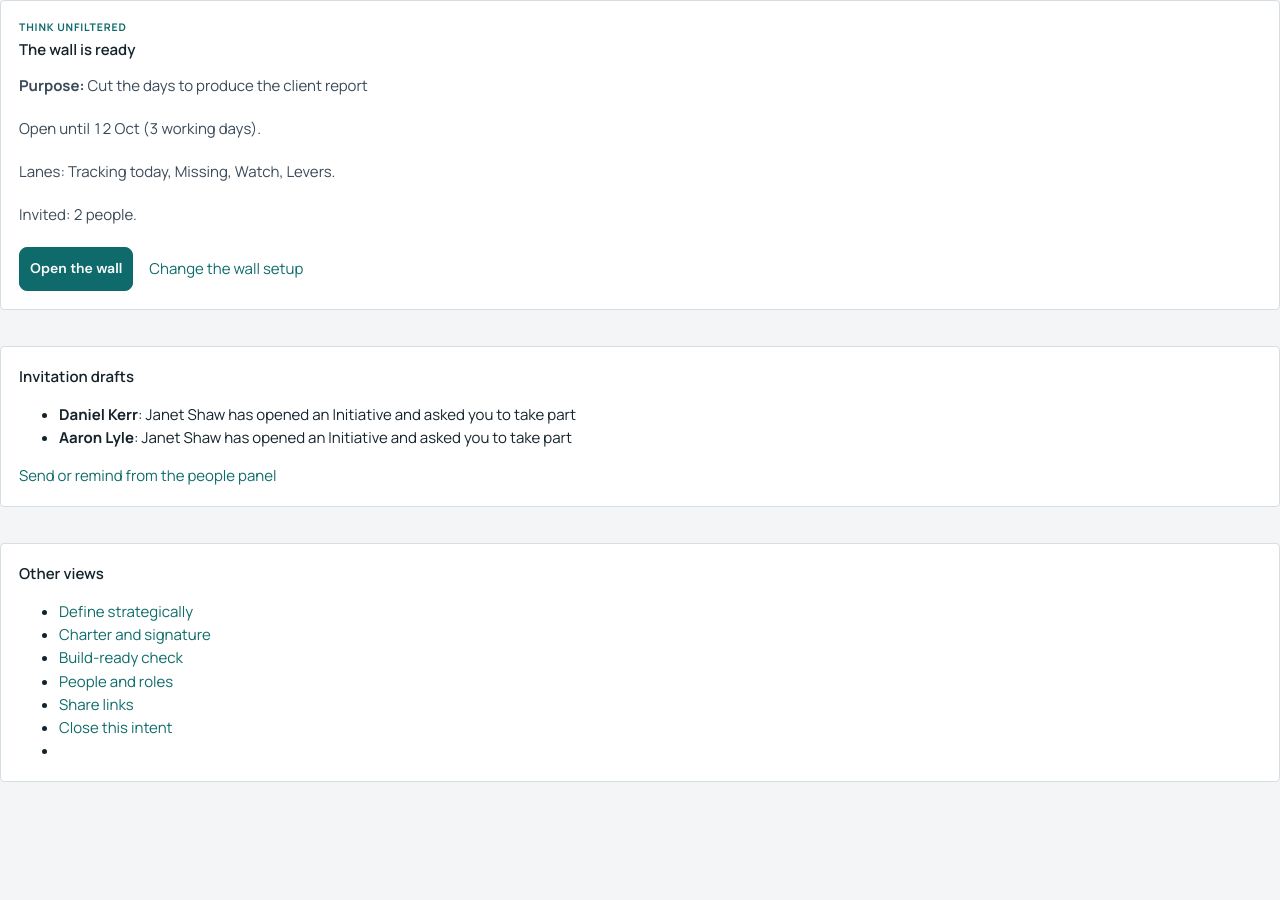
Scenario: the Initiative stage view › a clashing topic says so in plain words
What coordinates should you click on to do the following:
click the button "Open the wall"
I would click on:
 (76, 268)
Its box is x1=19 y1=246 x2=133 y2=290.
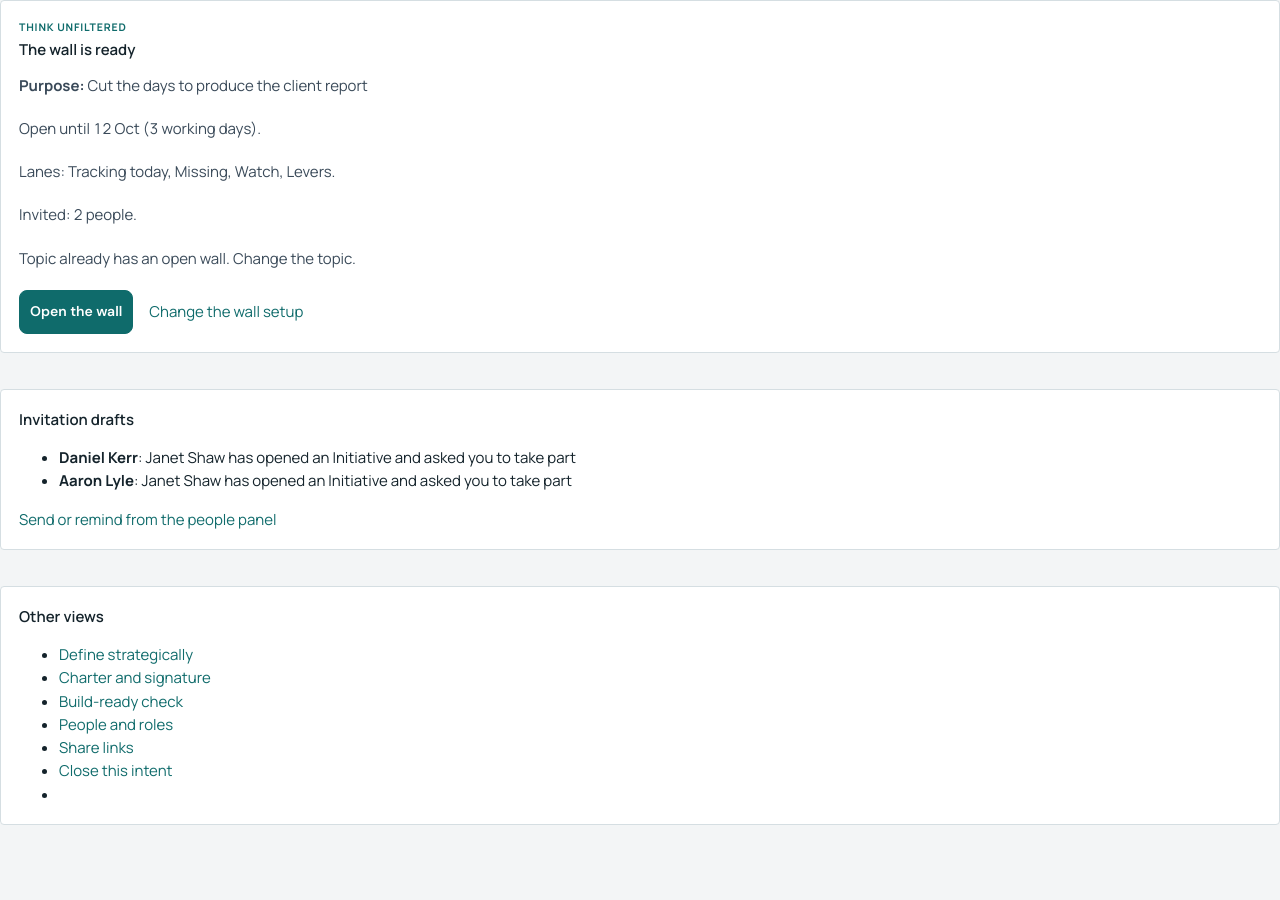
Now the message reads "Topic already has an open wall. Change the topic.", box x1=19 y1=248 x2=356 y2=268
